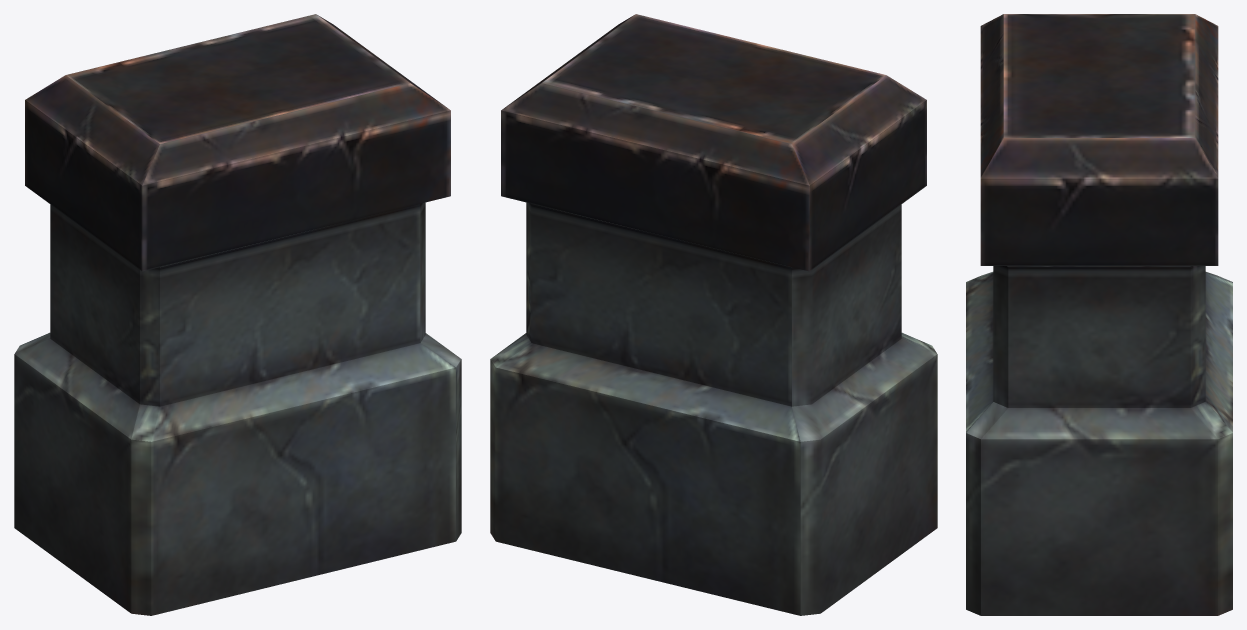
Rendered from B_shidun001.fbx.
The picture shows the model from 3 angles, left to right: view 1: azimuth 30°, elevation 25°; view 2: azimuth 150°, elevation 25°; view 3: azimuth 270°, elevation 25°; orthographic projection.
Parts seen in each view (by area): view 1: B_shidun001; view 2: B_shidun001; view 3: B_shidun001.
Part boxes in pixels (x1=…): B_shidun001: x1=14, y1=14, x2=461, y2=615; B_shidun001: x1=490, y1=14, x2=937, y2=615; B_shidun001: x1=966, y1=14, x2=1232, y2=615.
Bounding box in the file's own units: 118 × 154 × 81.32.
